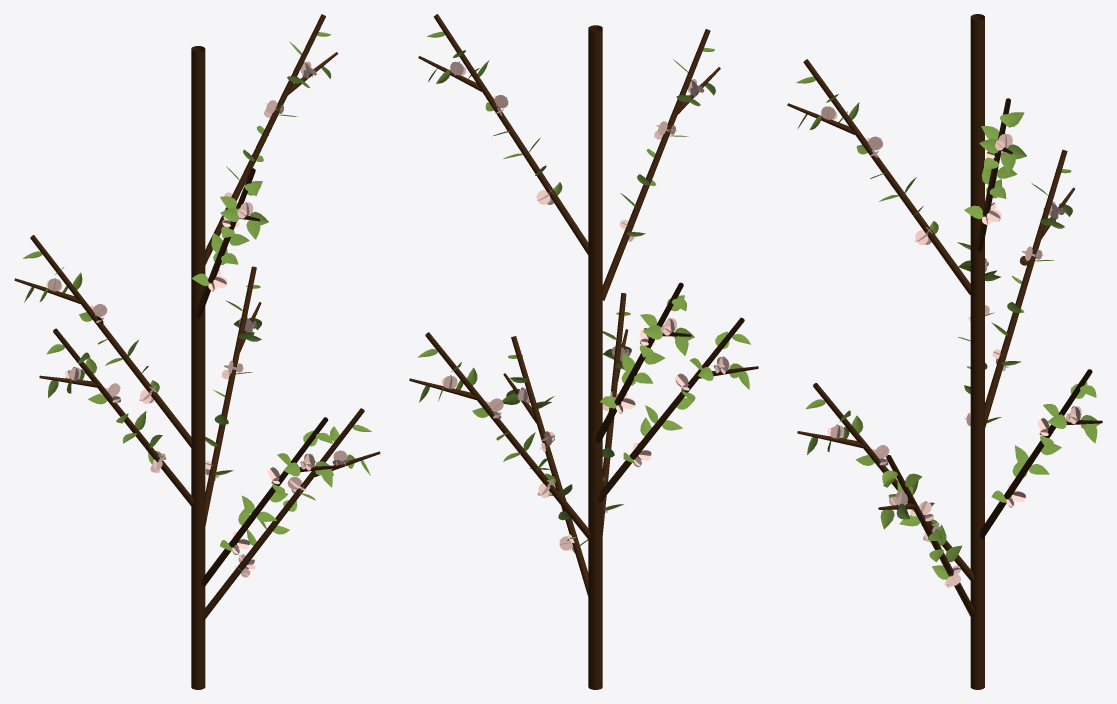
File: CottonPlant.fbx
The picture shows the model from 3 angles, left to right: view 1: azimuth 30°, elevation 25°; view 2: azimuth 150°, elevation 25°; view 3: azimuth 270°, elevation 25°; orthographic projection. The views are drawn at different scales.
Parts seen in each view (by area): view 1: CottonPlant; view 2: CottonPlant; view 3: CottonPlant.
Boxes of the visible parts, x1,y1,x2,y2 form: CottonPlant: [14, 14, 380, 689]; CottonPlant: [409, 14, 758, 689]; CottonPlant: [787, 14, 1102, 689].
Bounding box in the file's own units: 20.25 × 39.37 × 16.81.
